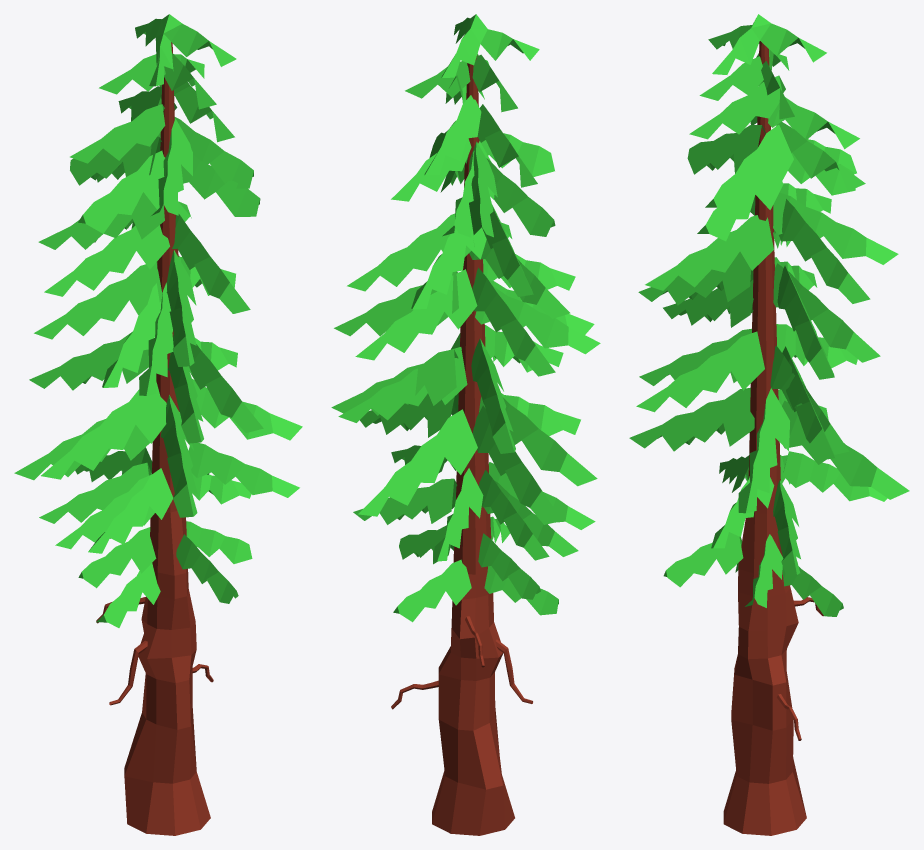
File: pohon 1.fbx
3 views of the same model, side by side, from view 1: azimuth 30°, elevation 25°; view 2: azimuth 150°, elevation 25°; view 3: azimuth 270°, elevation 25° (orthographic).
Parts seen in each view (by area): view 1: Tree Type0 03 Model; view 2: Tree Type0 03 Model; view 3: Tree Type0 03 Model.
Part boxes in pixels (x1,y1,x2,y2): Tree Type0 03 Model: (14, 14, 302, 835); Tree Type0 03 Model: (331, 14, 600, 835); Tree Type0 03 Model: (629, 14, 909, 835).
Bounding box in the file's own units: 639 × 1948 × 617.
